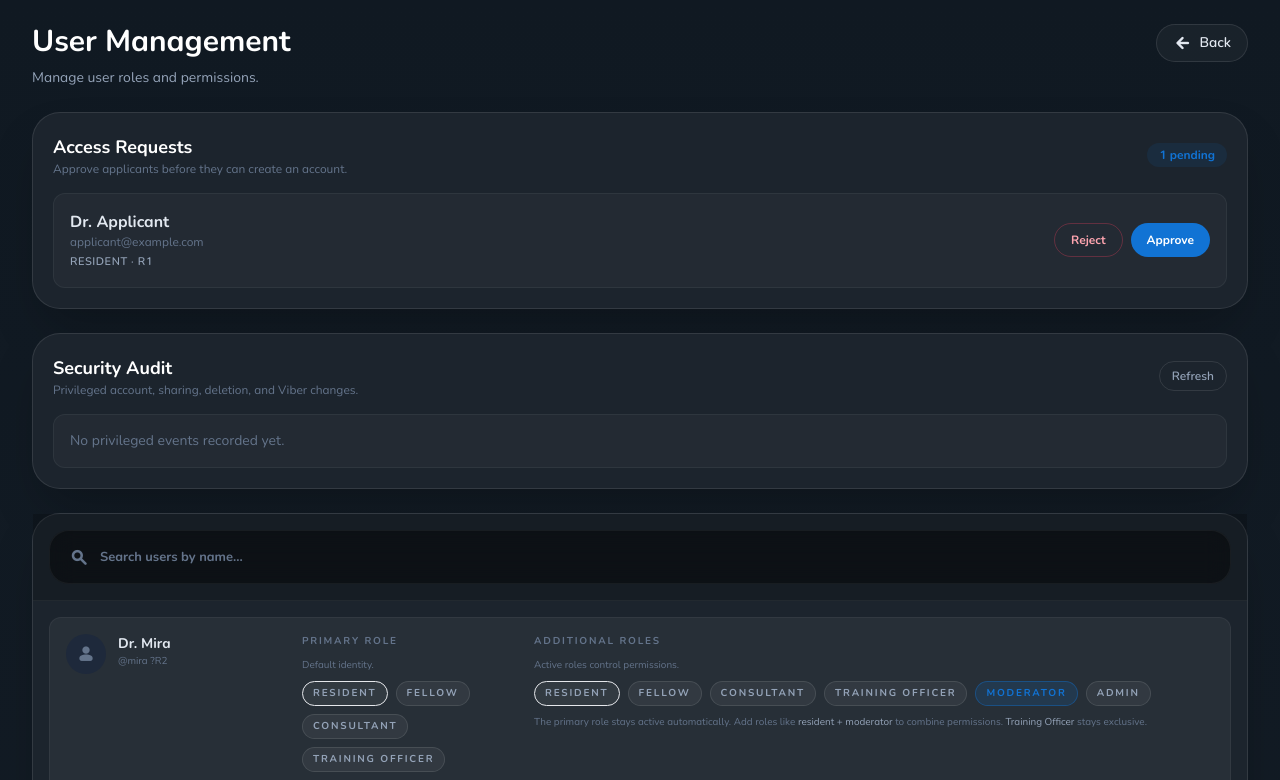
Test: AdminUserManagement › allows staff to approve a pending access request
Click the button "Approve" at [1170, 240], box [1131, 223, 1210, 257]
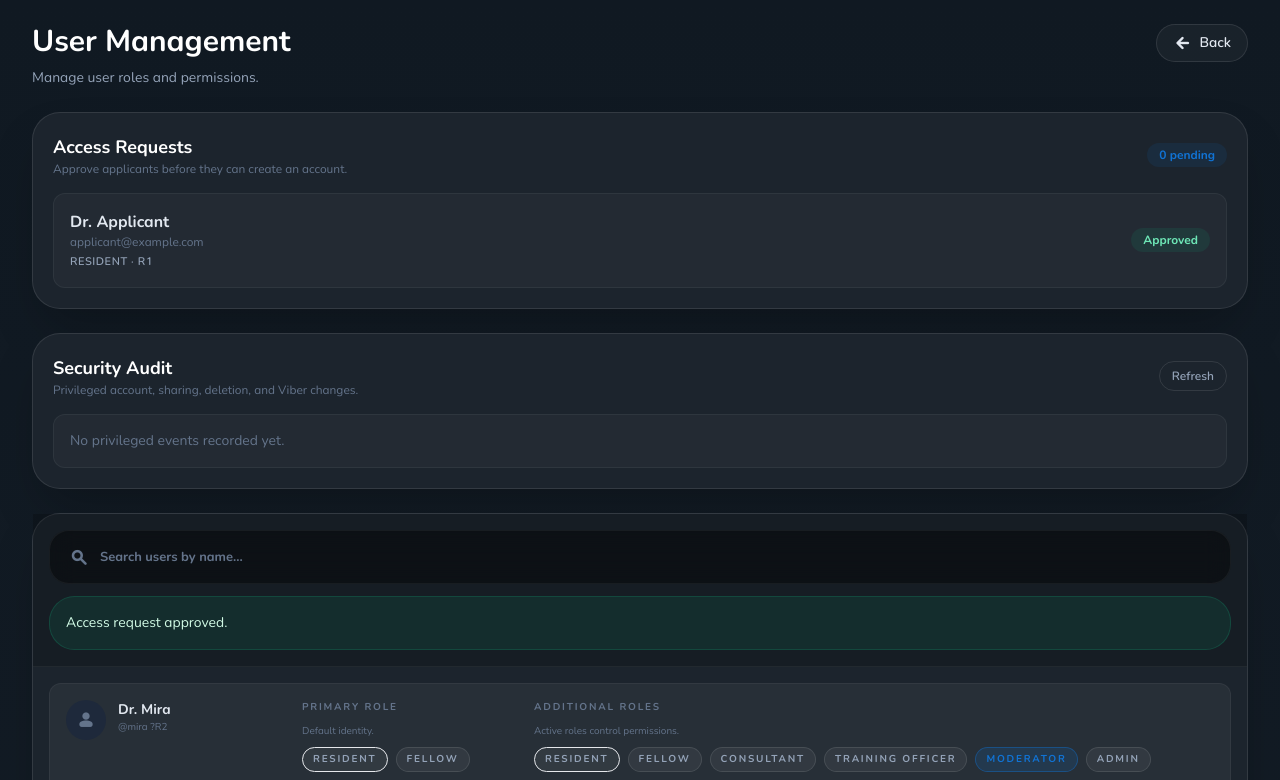
Now the text "Access request approved." is shown, box [49, 596, 1231, 650]
